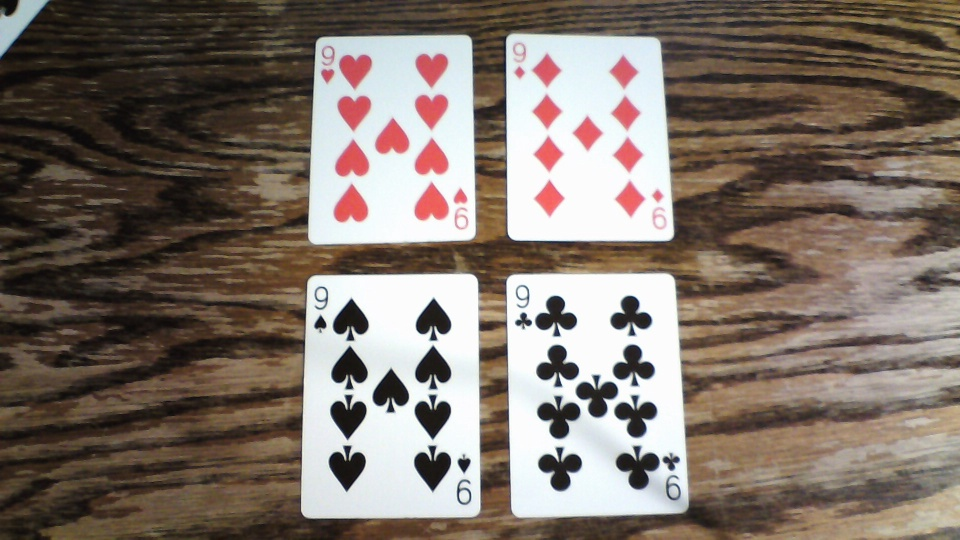nine: (504, 272, 691, 518), (300, 272, 482, 518), (504, 32, 676, 243), (307, 32, 478, 243)
